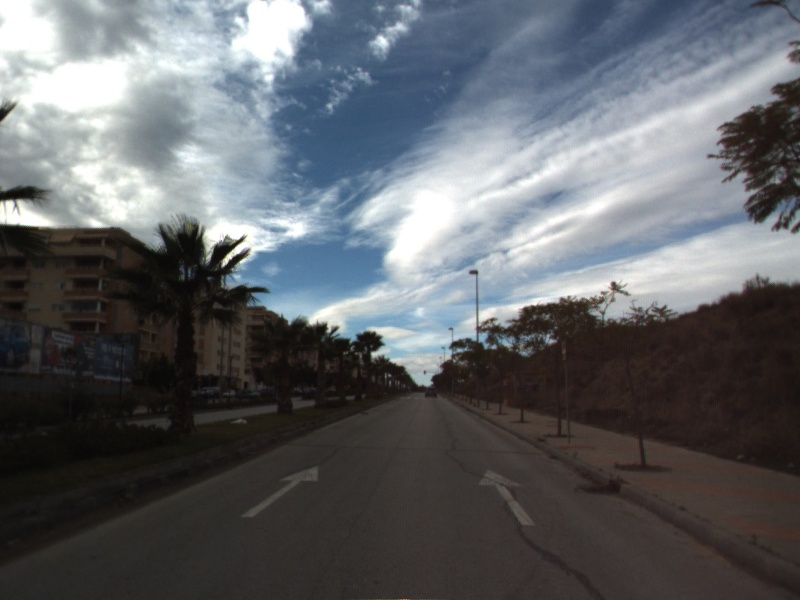STRAIGHT: (239, 463, 321, 520), (476, 467, 537, 527)
